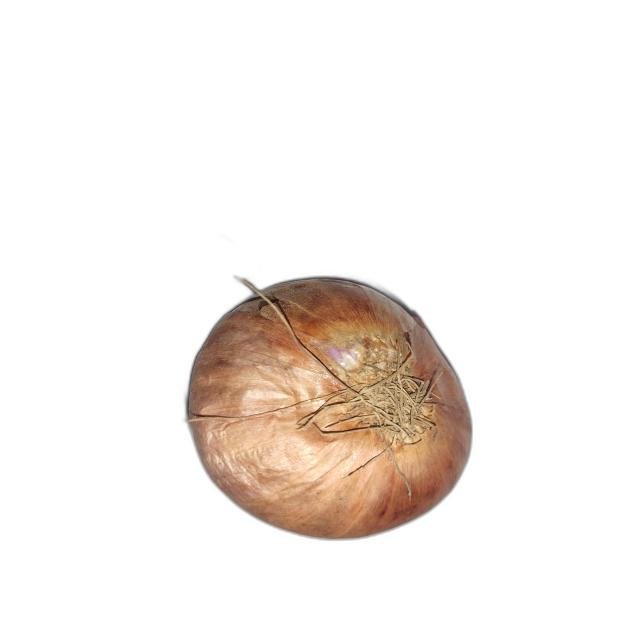onion: (183, 275, 476, 543)
